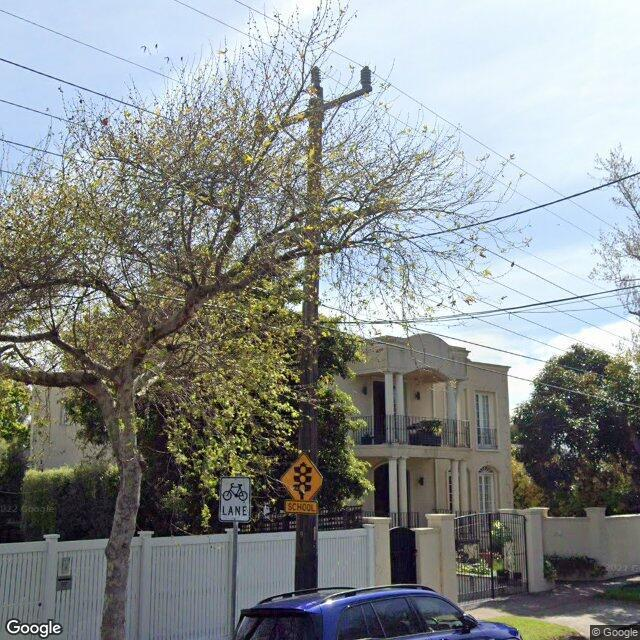HV-transmission: (256, 65, 374, 132)
crossarm: (262, 198, 398, 248), (262, 85, 373, 134)
timber-pole: (294, 88, 326, 596)
